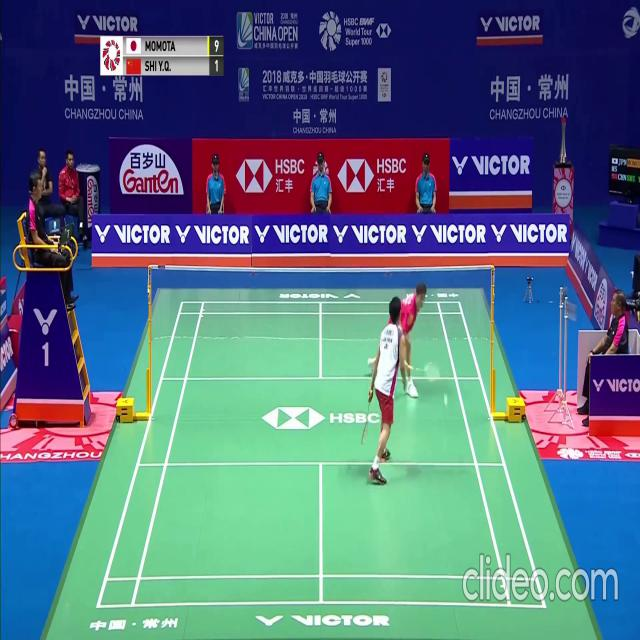Shuttlecock: (443, 396, 448, 404)
